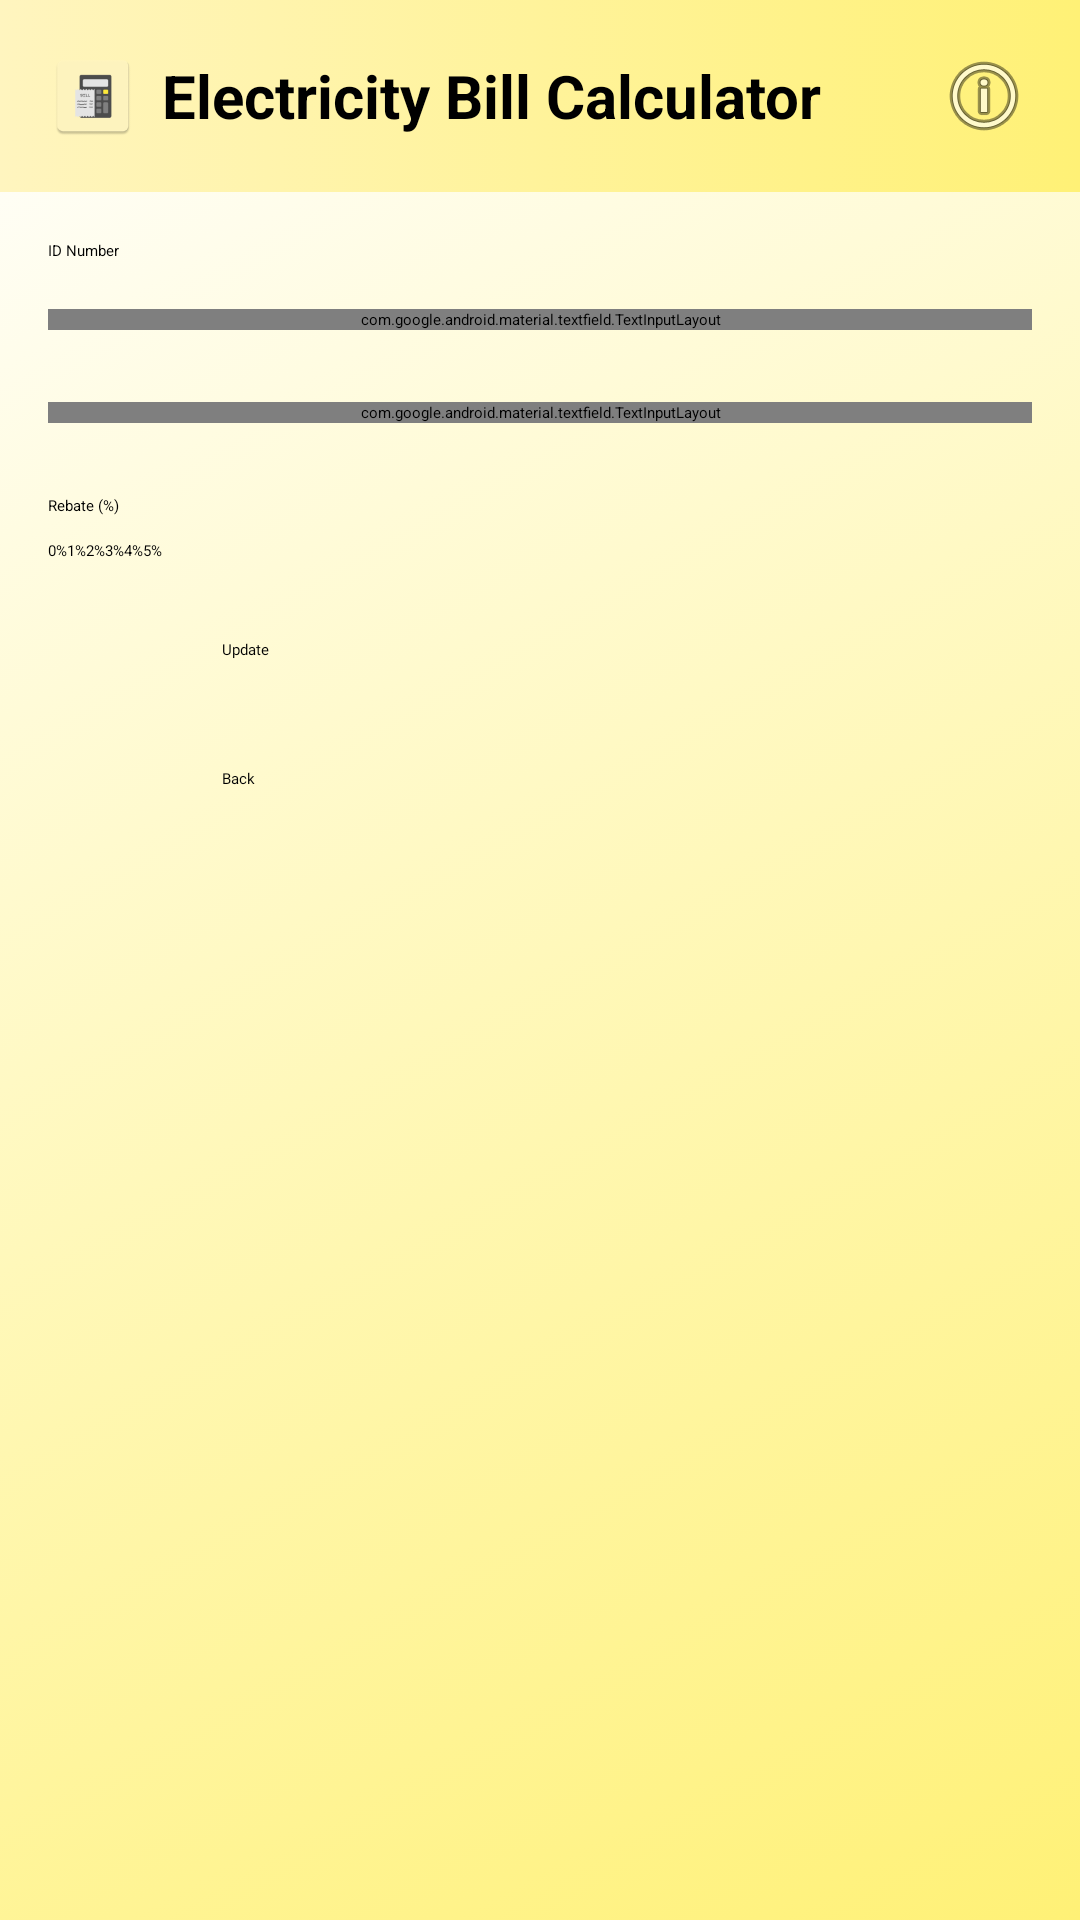

Where to tap for icons on this 1080 × 1920 app screen, as (x=x, y=y):
Info: (x=984, y=96)
